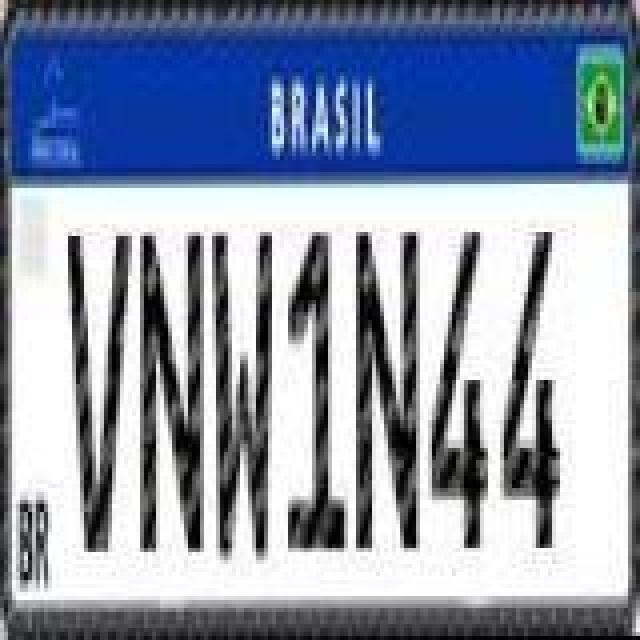1: (284, 228, 348, 552)
4: (424, 218, 488, 554), (496, 222, 560, 546)
N: (354, 222, 422, 558), (138, 228, 206, 552)
V: (66, 224, 134, 560)
W: (212, 222, 276, 558)
